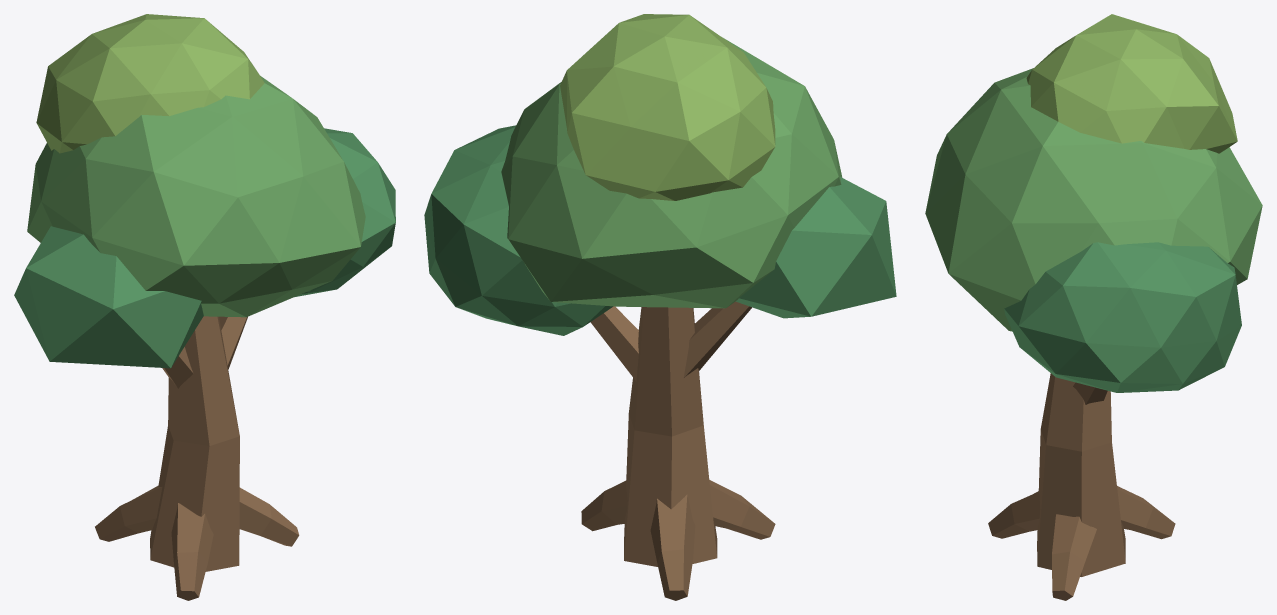
Rendered from Cozy_Tree_Small_01_RoundSapling.fbx.
3 renders of one model, left to right at view 1: azimuth 30°, elevation 25°; view 2: azimuth 150°, elevation 25°; view 3: azimuth 270°, elevation 25°, orthographic. The views are drawn at different scales.
Parts seen in each view (by area): view 1: Cozy_Tree_Small_01_RoundSapling; view 2: Cozy_Tree_Small_01_RoundSapling; view 3: Cozy_Tree_Small_01_RoundSapling.
Boxes of the visible parts, x1,y1,x2,y2 form: Cozy_Tree_Small_01_RoundSapling: (14,14,395,600); Cozy_Tree_Small_01_RoundSapling: (424,14,896,600); Cozy_Tree_Small_01_RoundSapling: (925,14,1262,600).
Size of the model in its own units: 1.74 by 2.25 by 1.32.
